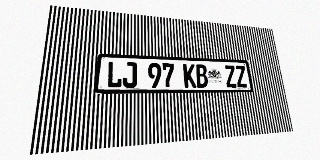7: (161, 63, 175, 88)
9: (148, 63, 162, 88)
B: (195, 64, 208, 88)
J: (122, 62, 137, 88)
K: (183, 64, 196, 88)
L: (106, 61, 122, 88)
Z: (224, 65, 237, 87), (235, 66, 248, 87)
